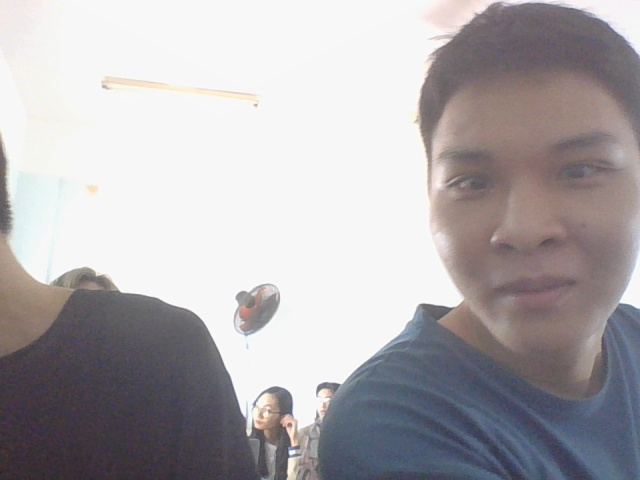real: (392, 0, 640, 423)
